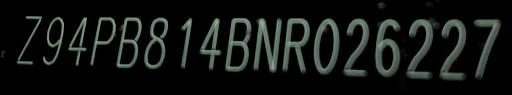letter: (469, 16, 503, 83), (436, 17, 468, 82), (402, 16, 434, 79), (138, 16, 176, 69), (372, 16, 402, 79), (340, 16, 372, 75), (221, 17, 253, 72), (311, 17, 339, 76), (282, 17, 310, 74), (87, 15, 117, 68), (12, 13, 40, 66), (254, 17, 280, 74), (117, 15, 143, 68), (174, 16, 198, 67), (198, 16, 220, 71), (40, 16, 64, 65), (64, 16, 86, 67)
